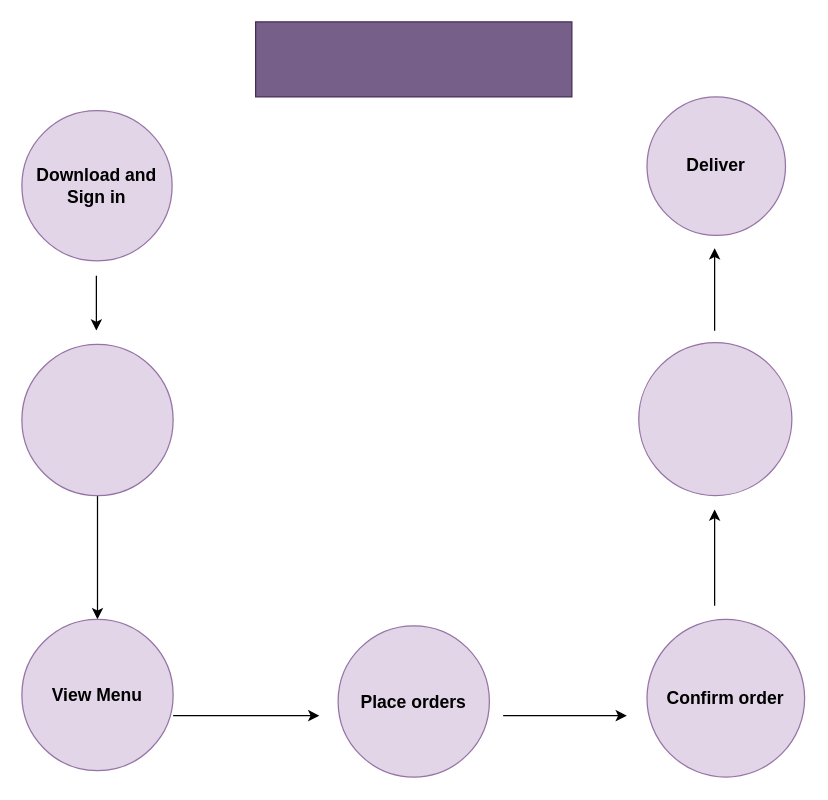
Some shapes in this 828 by 800 pixel diagram are drawn without their labels. The centre of each missing label's shape, as x and y in pixels:
"Browse restaraunts" goes at pixel 97 419.
"Food Delivery" goes at pixel 413 59.
"Order tracking" goes at pixel 715 418.
